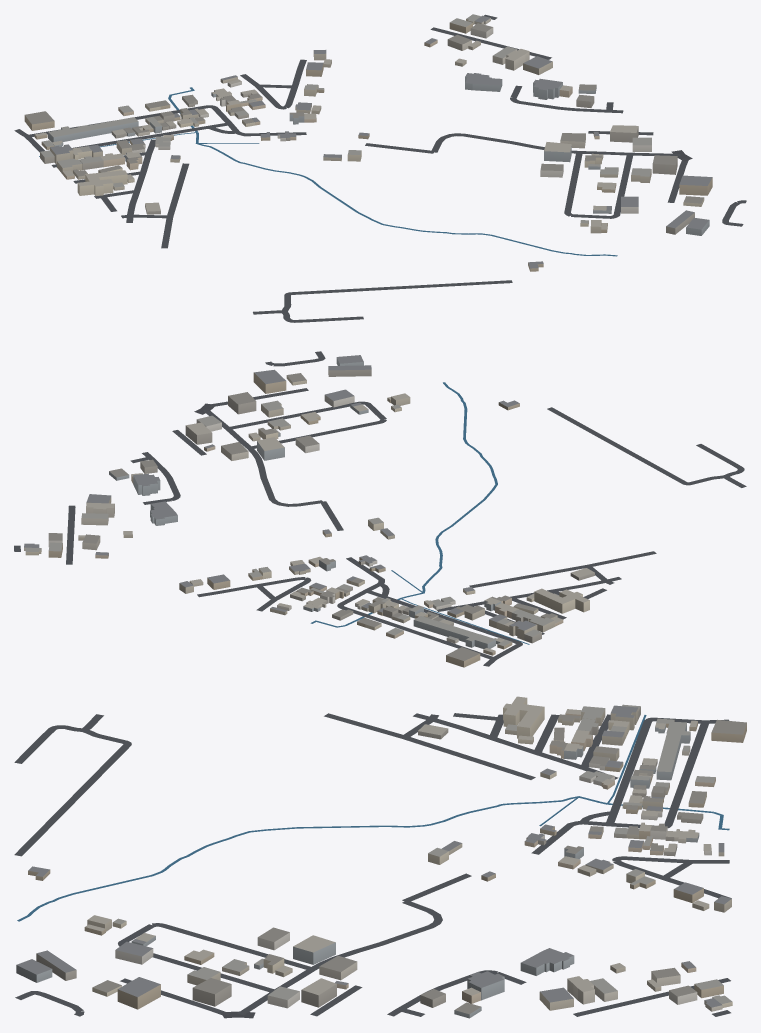
3 renders of one model, top to bottom at view 1: azimuth 30°, elevation 25°; view 2: azimuth 150°, elevation 25°; view 3: azimuth 270°, elevation 25°, orthographic. The views are drawn at different scales.
Parts seen in each view (by area): view 1: buildings_roofs, buildings_walls, roads, water; view 2: buildings_roofs, buildings_walls, roads, water; view 3: buildings_roofs, buildings_walls, roads, water.
Part boxes in pixels (x1,y1,x2,y2): buildings_roofs: (25, 14, 712, 268); buildings_walls: (24, 18, 712, 271); roads: (14, 14, 746, 322); water: (39, 87, 617, 256); buildings_roofs: (24, 355, 594, 660); buildings_walls: (24, 358, 594, 667); roads: (14, 351, 746, 666); water: (310, 382, 529, 644); buildings_roofs: (16, 696, 746, 1014); buildings_walls: (16, 698, 746, 1018); roads: (14, 713, 731, 1018); water: (17, 715, 729, 921).
Size of the model in its own units: 515 by 9.62 by 515.
